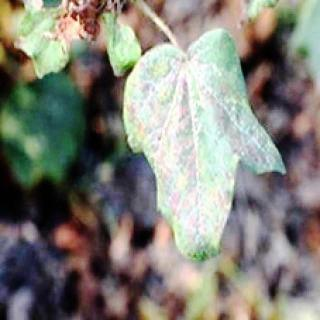grey mildew: (125, 34, 277, 256)
